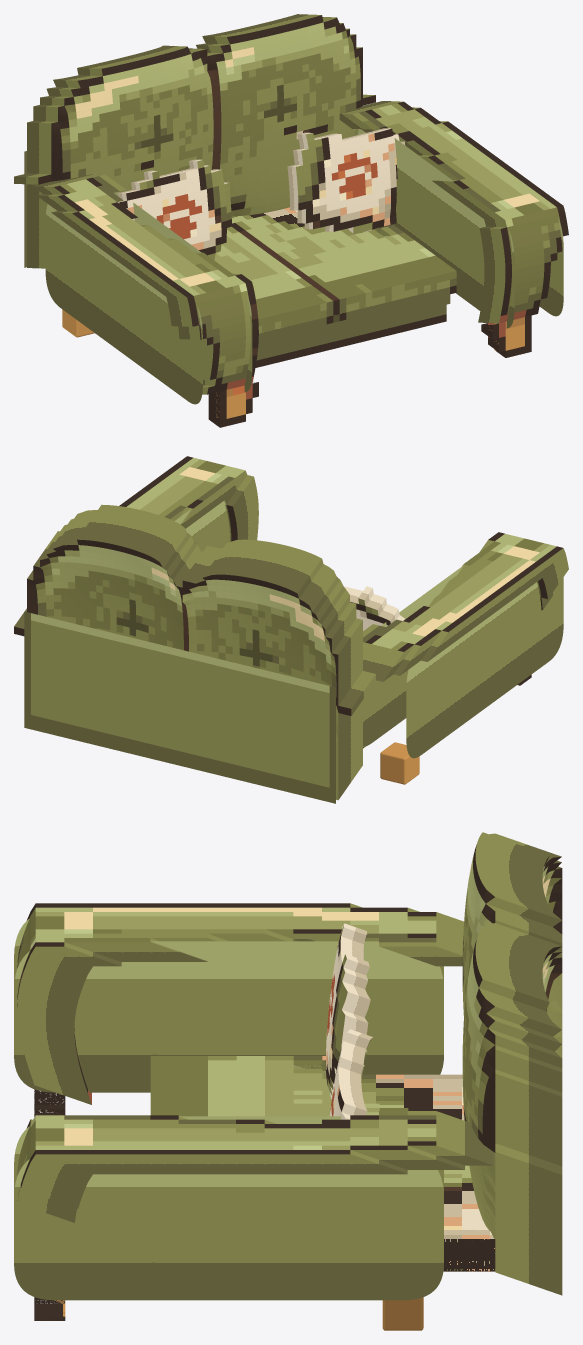
The model's file is couch.glb.
The picture shows the model from 3 angles, top to bottom: view 1: azimuth 30°, elevation 25°; view 2: azimuth 150°, elevation 25°; view 3: azimuth 270°, elevation 25°; orthographic projection. The views are drawn at different scales.
Visible parts, largest first — view 1: Filled upholstered arm side (×4), Source-painted backRight, Source-painted backLeft, Source-painted rightArm, Source-painted leftArm, Source-painted seatRight, Source-painted pillowRight, Source-painted seatLeft, Source-painted pillowLeft, Upholstered depth backLeft, Upholstered depth rightArm, Upholstered depth leftArm (+6 smaller); view 2: Plain lower rear upholstery, Filled upholstered arm side (×3), Source-painted backLeft, Source-painted backRight, Upholstered depth backLeft, Source-painted leftArm, Upholstered depth backRight, Upholstered depth leftArm, Source-painted rightArm, Upholstered depth rightArm, Rear wooden couch foot, Upholstered depth pillowLeft (+1 smaller); view 3: Filled upholstered arm side (×3), Upholstered depth backRight, Source-painted rightArm, Source-painted leftArm, Upholstered depth leftArm, Upholstered depth rightArm, Source-painted seatLeft, Closed upholstered couch base, Source-painted backRight, Upholstered depth backLeft, Source-painted backLeft, Upholstered depth pillowLeft (+4 smaller).
Boxes of the visible parts, bbox=[...] form: Filled upholstered arm side (×4): bbox=[45, 129, 563, 404]; Source-painted backRight: bbox=[207, 15, 375, 216]; Source-painted backLeft: bbox=[38, 46, 213, 192]; Source-painted rightArm: bbox=[352, 101, 568, 323]; Source-painted leftArm: bbox=[54, 174, 258, 394]; Source-painted seatRight: bbox=[232, 215, 456, 322]; Source-painted pillowRight: bbox=[296, 128, 405, 233]; Source-painted seatLeft: bbox=[214, 226, 333, 340]; Source-painted pillowLeft: bbox=[119, 160, 232, 260]; Upholstered depth backLeft: bbox=[14, 45, 206, 268]; Upholstered depth rightArm: bbox=[339, 101, 506, 323]; Upholstered depth leftArm: bbox=[33, 174, 240, 394]; Plain lower rear upholstery: bbox=[24, 611, 335, 803]; Filled upholstered arm side (×3): bbox=[174, 501, 563, 758]; Source-painted backLeft: bbox=[182, 574, 351, 799]; Source-painted backRight: bbox=[14, 539, 194, 651]; Upholstered depth backLeft: bbox=[183, 539, 375, 799]; Source-painted leftArm: bbox=[363, 532, 562, 651]; Upholstered depth backRight: bbox=[14, 504, 202, 628]; Upholstered depth leftArm: bbox=[363, 540, 568, 681]; Source-painted rightArm: bbox=[119, 456, 244, 541]; Upholstered depth rightArm: bbox=[170, 470, 258, 540]; Rear wooden couch foot: bbox=[380, 742, 419, 784]; Upholstered depth pillowLeft: bbox=[344, 586, 404, 623]; Filled upholstered arm side (×3): bbox=[14, 941, 443, 1300]; Upholstered depth backRight: bbox=[475, 923, 562, 1295]; Source-painted rightArm: bbox=[17, 1111, 436, 1200]; Source-painted leftArm: bbox=[17, 903, 436, 1104]; Upholstered depth leftArm: bbox=[17, 903, 463, 1104]; Upholstered depth rightArm: bbox=[17, 1111, 493, 1222]; Source-painted seatLeft: bbox=[150, 1056, 408, 1116]; Closed upholstered couch base: bbox=[322, 1074, 495, 1271]; Source-painted backRight: bbox=[462, 940, 562, 1238]; Upholstered depth backLeft: bbox=[475, 832, 562, 952]; Source-painted backLeft: bbox=[462, 844, 562, 1057]; Upholstered depth pillowLeft: bbox=[330, 923, 370, 1098].
Bounding box in the file's own units: 58 × 33.83 × 54.2.
24 materials, 22 textured.
